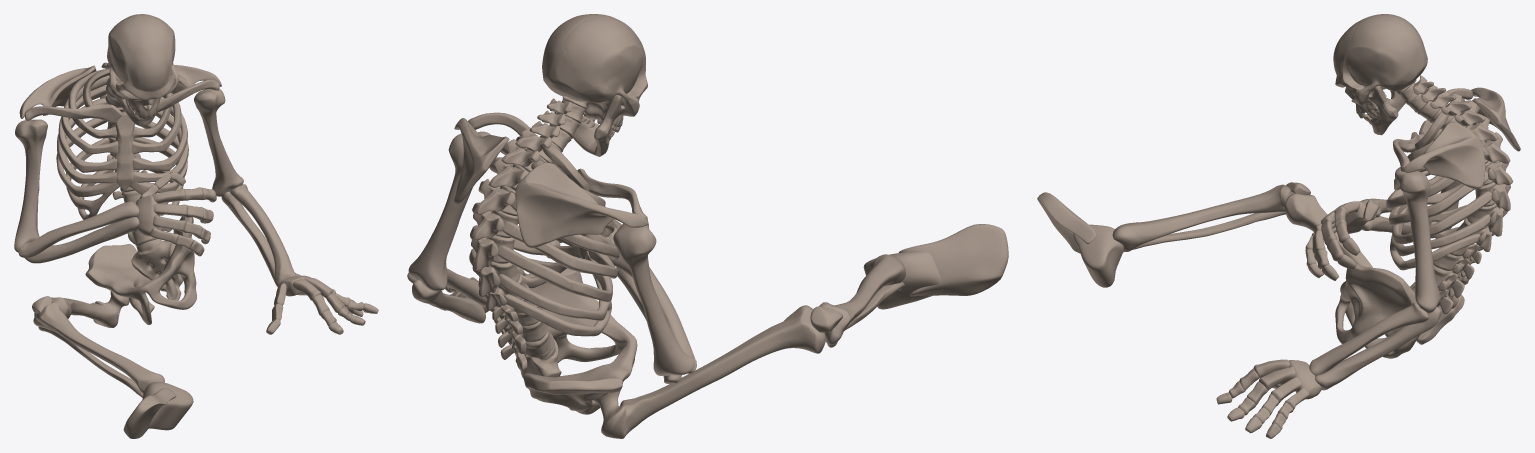
3 renders of one model, left to right at view 1: azimuth 30°, elevation 25°; view 2: azimuth 150°, elevation 25°; view 3: azimuth 270°, elevation 25°, orthographic. The views are drawn at different scales.
Visible parts, largest first — view 1: SM_Ghost_Skeleton_01_LOD0; view 2: SM_Ghost_Skeleton_01_LOD0; view 3: SM_Ghost_Skeleton_01_LOD0.
Part boxes in pixels (<box>): SM_Ghost_Skeleton_01_LOD0: <box>14,14,378,438</box>; SM_Ghost_Skeleton_01_LOD0: <box>407,14,1008,438</box>; SM_Ghost_Skeleton_01_LOD0: <box>1037,14,1520,438</box>.
Size of the model in its own units: 1.03 by 0.886 by 1.15.
Materials: 1 (1 with a texture image).
